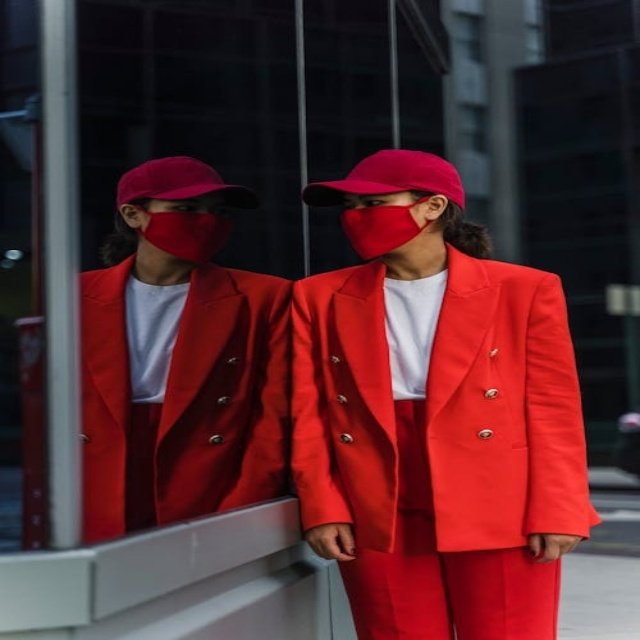Mascara: (339, 198, 437, 259), (134, 209, 235, 261)
Sin_gafas: (366, 199, 388, 206), (170, 205, 195, 211)
Sin_guantes: (293, 521, 370, 567), (516, 528, 590, 567)
